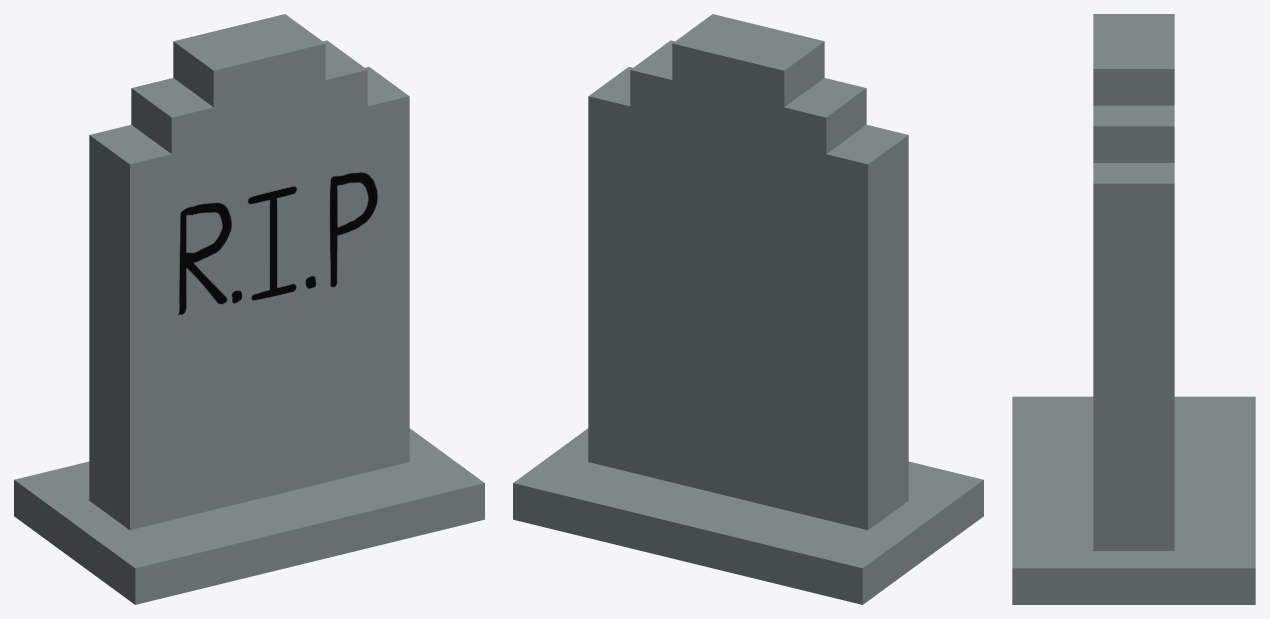
Rendered from stomb_stone_rip.fbx.
3 renders of one model, left to right at view 1: azimuth 30°, elevation 25°; view 2: azimuth 150°, elevation 25°; view 3: azimuth 270°, elevation 25°, orthographic.
Parts seen in each view (by area): view 1: plain1; view 2: plain1; view 3: plain1.
Boxes of the visible parts, x1,y1,x2,y2 form: plain1: [14, 14, 484, 604]; plain1: [513, 14, 983, 604]; plain1: [1012, 14, 1255, 604].
Size of the model in its own units: 250 by 325 by 150.
1 material, 1 textured.
